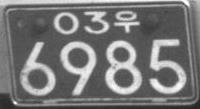0: (52, 11, 79, 34)
3: (83, 10, 109, 34)
5: (148, 38, 187, 94)
6: (18, 41, 56, 97)
8: (104, 39, 142, 96)
9: (59, 40, 97, 95)
우: (114, 10, 140, 33)
